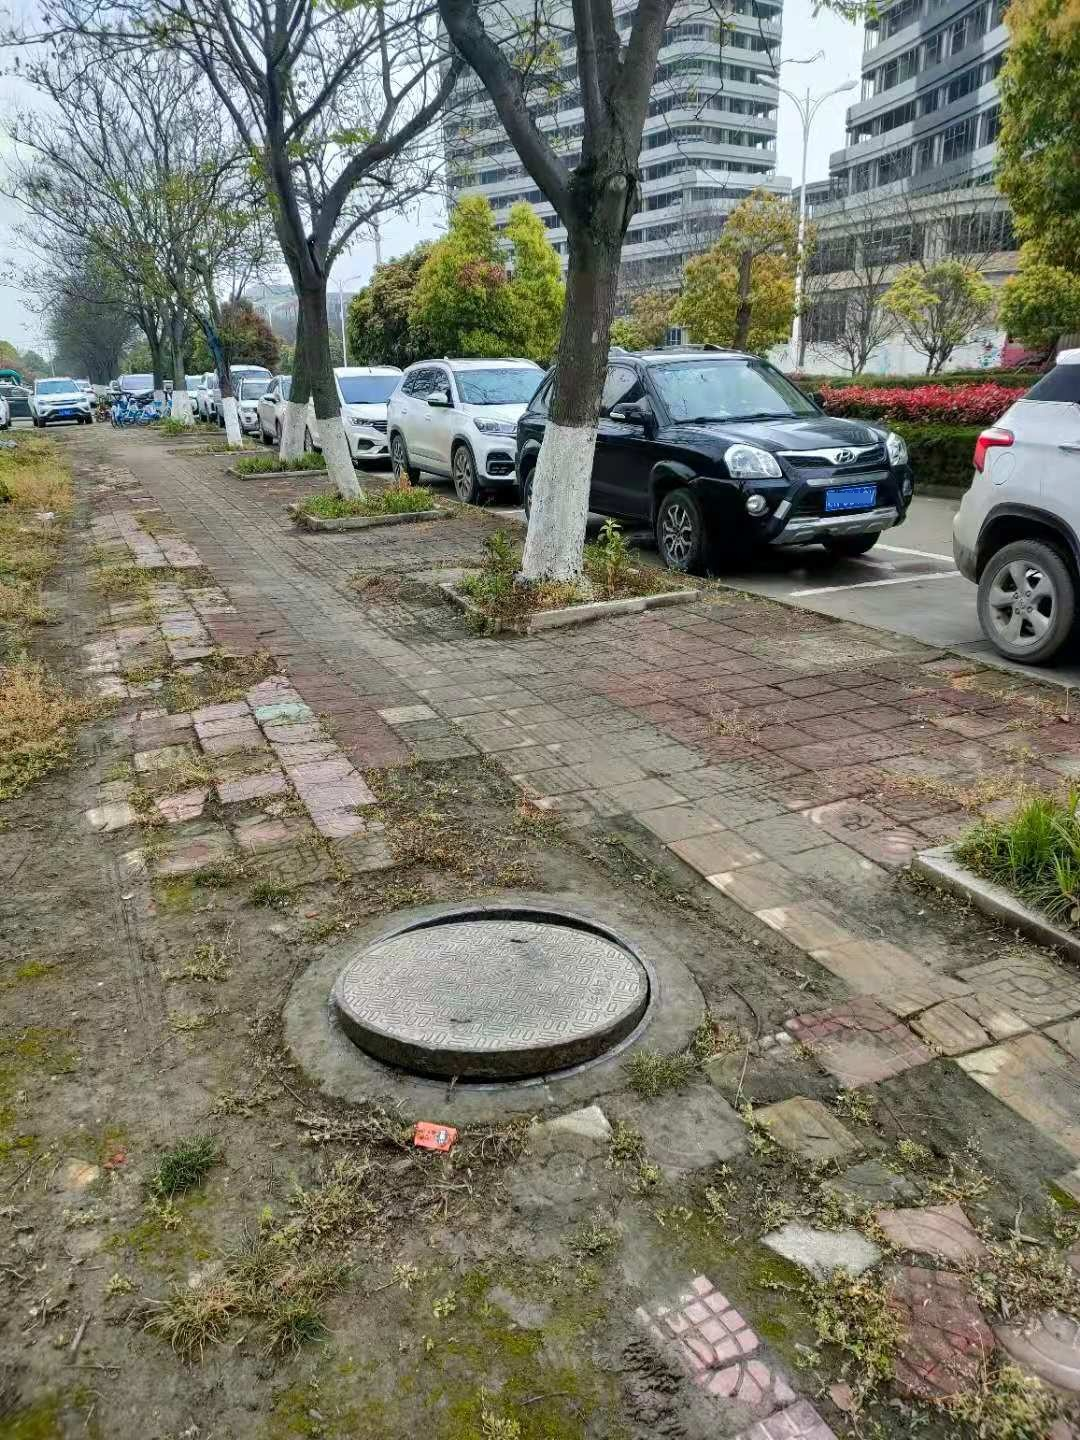well: (329, 898, 664, 1099)
